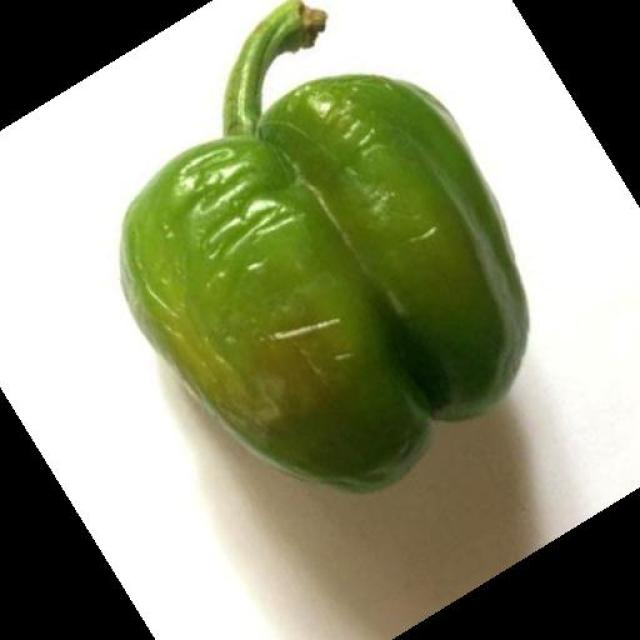Stale_Capsicum: (111, 8, 538, 490)
